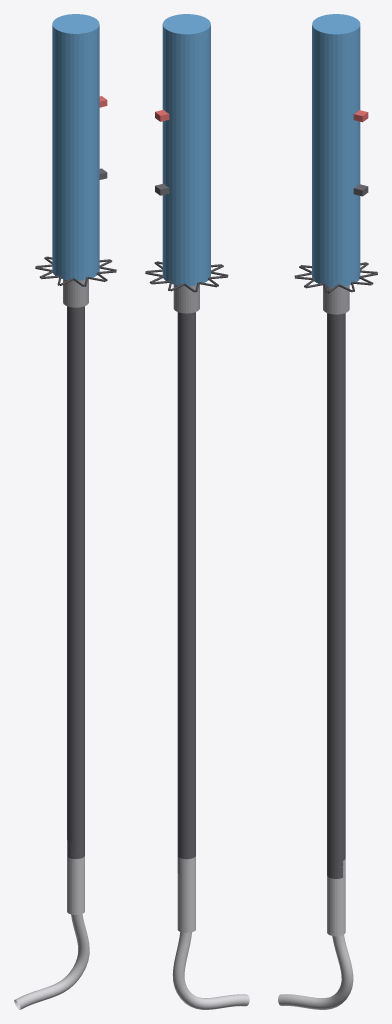
Rendered from Electrocauterio.fbx.
3 renders of one model, left to right at view 1: azimuth 30°, elevation 25°; view 2: azimuth 210°, elevation 25°; view 3: azimuth 330°, elevation 25°, orthographic. The views are drawn at different scales.
Visible parts, largest first — view 1: EC_Handpiece, EC_Shaft, Hook_Tip, Distal, EC_Rotator; view 2: EC_Handpiece, EC_Shaft, Hook_Tip, Distal, EC_Rotator; view 3: EC_Handpiece, EC_Shaft, Hook_Tip, Distal, EC_Rotator.
Part boxes in pixels (x1,y1,x2,y2): EC_Handpiece: (52,14,99,280); EC_Shaft: (67,306,84,858); Hook_Tip: (14,914,89,1009); Distal: (67,840,84,914); EC_Rotator: (63,279,88,307); EC_Handpiece: (162,14,210,285); EC_Shaft: (177,312,195,873); Hook_Tip: (172,932,249,1009); Distal: (177,856,195,932); EC_Rotator: (173,284,199,313); EC_Handpiece: (312,14,360,286); EC_Shaft: (327,313,345,878); Hook_Tip: (278,934,353,1009); Distal: (327,859,345,936); EC_Rotator: (323,285,349,314).
Size of the model in its own units: 2.95 by 29.59 by 2.17.
